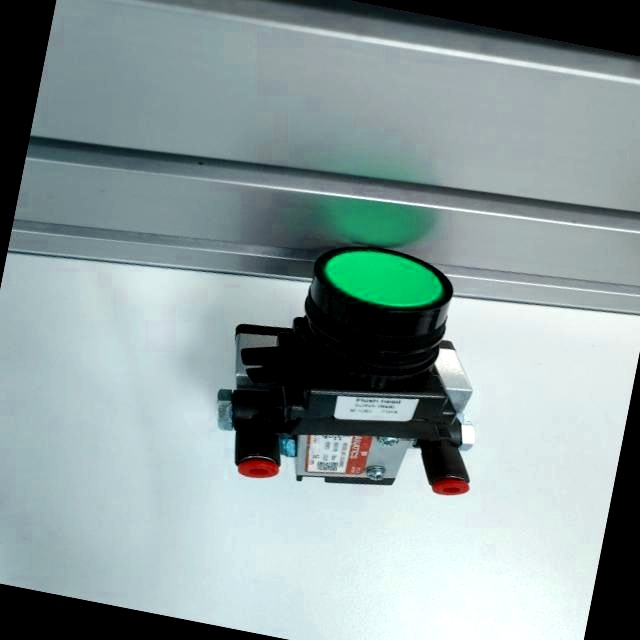push button: (202, 221, 513, 518)
